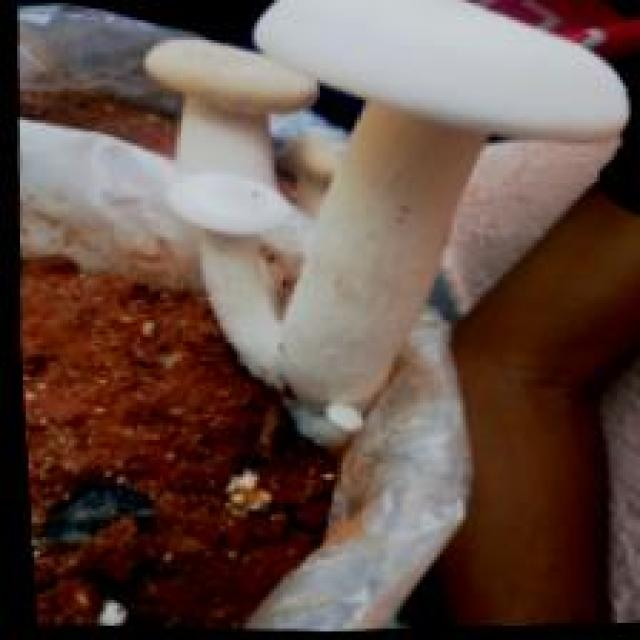death-cap: (248, 0, 628, 143)
field-mushroom: (248, 0, 628, 449)
